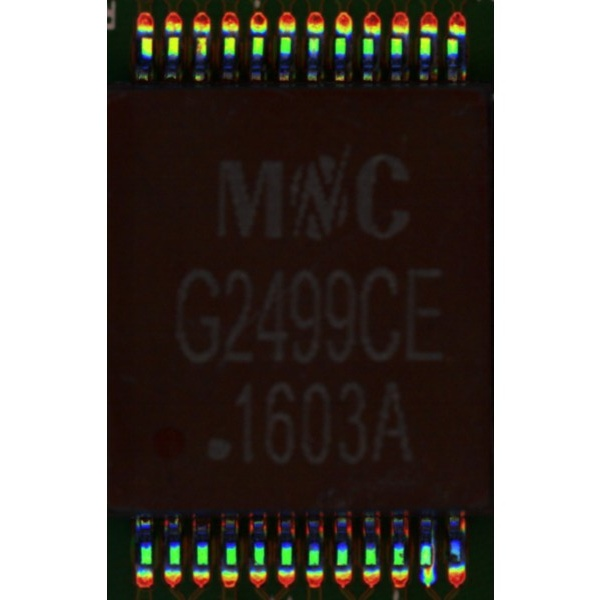Bad_podu: (422, 559, 430, 574)
Bad_qiaojiao: (429, 528, 435, 565)
